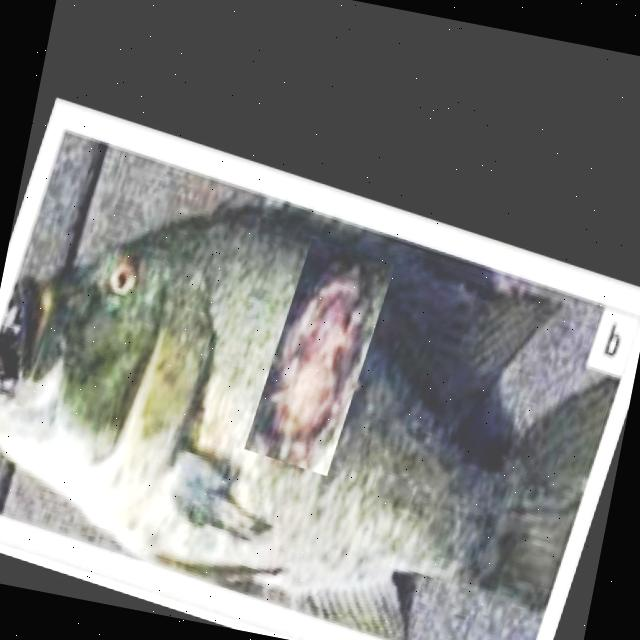Aeromonas Septicemia: (0, 204, 614, 640)
